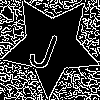J: (26, 20, 65, 73)
